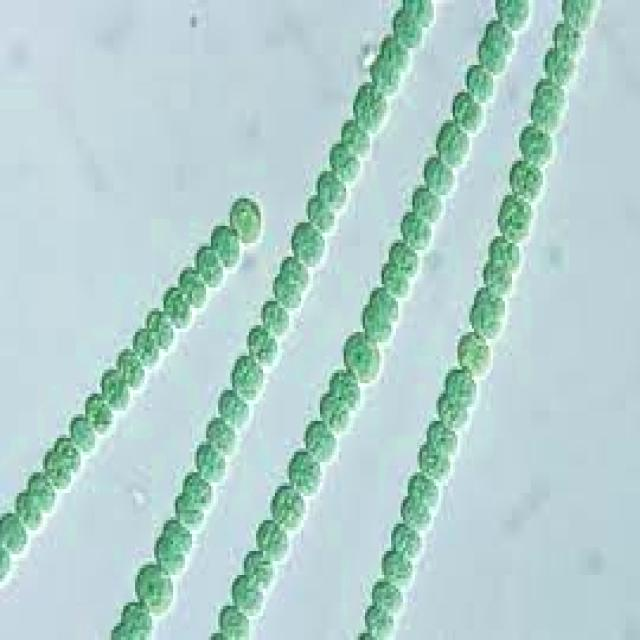Blue Green Algae: (351, 75, 391, 134), (133, 561, 175, 613), (289, 219, 330, 270), (469, 280, 505, 338), (304, 417, 342, 469), (341, 332, 382, 380), (315, 387, 353, 438), (287, 445, 325, 496), (216, 383, 253, 435), (268, 479, 308, 527), (450, 85, 486, 137), (256, 513, 292, 565), (495, 188, 531, 240), (244, 318, 282, 366), (434, 116, 472, 164), (230, 195, 263, 250), (540, 44, 578, 89), (507, 157, 545, 202), (415, 438, 453, 483), (230, 575, 268, 619), (368, 572, 406, 616), (194, 239, 226, 291), (2, 506, 31, 562), (97, 366, 133, 411), (367, 51, 403, 96), (398, 205, 434, 250), (417, 150, 455, 192), (230, 349, 263, 397), (455, 329, 491, 373), (401, 489, 436, 534), (150, 534, 188, 575), (379, 544, 417, 585), (162, 284, 194, 332), (304, 188, 336, 236), (484, 14, 522, 54), (240, 548, 278, 588), (361, 301, 398, 342), (211, 222, 242, 270), (116, 342, 147, 390), (26, 466, 57, 514), (519, 123, 555, 164), (436, 390, 472, 431), (339, 116, 374, 158), (83, 383, 111, 435), (192, 442, 228, 482), (464, 58, 496, 103), (528, 92, 560, 137), (391, 514, 427, 554), (389, 7, 424, 48), (486, 233, 521, 274), (144, 305, 176, 349), (130, 322, 162, 366), (427, 418, 462, 458), (327, 366, 358, 411), (552, 17, 586, 58), (379, 34, 415, 72), (180, 472, 216, 510), (386, 236, 422, 274), (533, 75, 569, 113), (12, 486, 43, 530), (64, 411, 97, 452), (280, 250, 313, 291), (446, 366, 476, 411), (316, 164, 348, 206), (368, 280, 400, 322), (363, 602, 398, 640), (178, 264, 208, 308), (330, 137, 360, 181), (204, 418, 237, 458), (173, 490, 206, 530), (382, 257, 412, 301), (482, 253, 514, 294), (408, 469, 443, 506), (270, 270, 304, 308), (54, 428, 83, 472), (218, 599, 249, 640), (45, 445, 71, 493), (410, 185, 443, 222), (162, 513, 194, 551), (261, 294, 289, 336), (477, 38, 508, 75)
